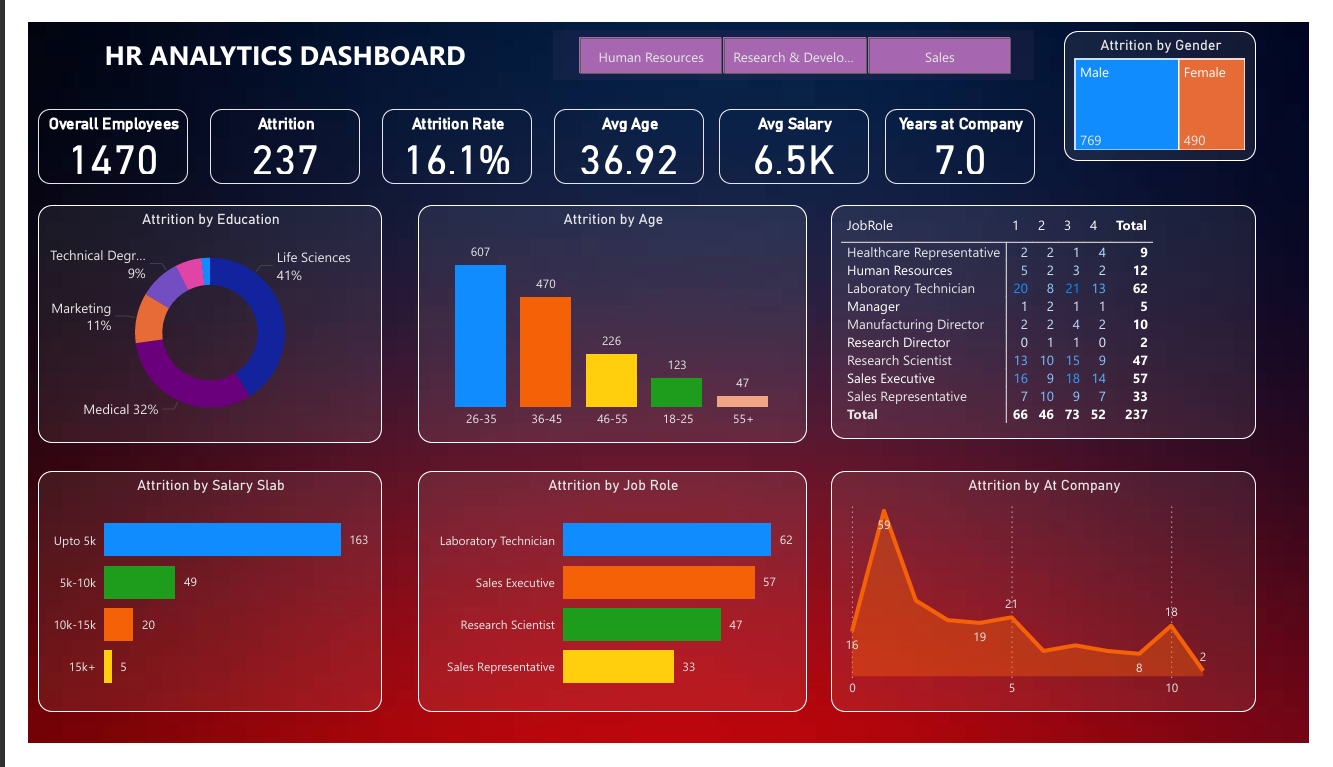

The dashboard page shown, as its layout file describes it:
{"tool":"powerbi","page":{"name":"Page 1","canvas":[1280,720],"ordinal":0},"visuals":[{"type":"card","title":"Overall Employees","fields":{"Values":["Count(HR_Analytics.EmpID)"]},"box":[9.1,86.4,150,75],"z":0},{"type":"card","title":"Attrition","fields":{"Values":["Sum(HR_Analytics.AttritionCount)"]},"box":[180.7,86.4,150,75],"z":1000},{"type":"card","title":"Attrition Rate","fields":{"Values":["HR_Analytics.AttritionRate"]},"box":[353.4,86.4,150,75],"z":2000},{"type":"card","title":"Avg Age","fields":{"Values":["Avg(HR_Analytics.Age)"]},"box":[525,86.4,150,75],"z":3000},{"type":"card","title":"Avg Salary","fields":{"Values":["Avg(HR_Analytics.MonthlyIncome)"]},"box":[689.8,86.4,150,75],"z":4000},{"type":"card","title":"Years at Company","fields":{"Values":["Avg(HR_Analytics.YearsAtCompany)"]},"box":[855.7,86.4,150,75],"z":5000},{"type":"donutChart","title":"Attrition by Education","fields":{"Category":["HR_Analytics.EducationField"],"Y":["CountNonNull(HR_Analytics.Attrition)"]},"box":[9.1,181.8,344.3,238.6],"z":6000},{"type":"columnChart","title":"Attrition by Age","fields":{"Category":["HR_Analytics.AgeGroup"],"Y":["CountNonNull(HR_Analytics.Attrition)"]},"box":[388.6,181.8,389.8,238.6],"z":7000},{"type":"pivotTable","fields":{"Rows":["HR_Analytics.JobRole"],"Columns":["HR_Analytics.JobSatisfaction"],"Values":["Sum(HR_Analytics.AttritionCount)"]},"box":[802.3,181.8,425,234.1],"z":8000},{"type":"barChart","title":"Attrition by Salary Slab","fields":{"Category":["HR_Analytics.SalarySlab"],"Y":["Sum(HR_Analytics.AttritionCount)"]},"box":[9.1,447.7,344.3,240.9],"z":9000},{"type":"barChart","title":"Attrition by Job Role","fields":{"Y":["Sum(HR_Analytics.AttritionCount)"],"Category":["HR_Analytics.JobRole"]},"box":[388.6,447.7,389.8,240.9],"z":10000},{"type":"areaChart","title":"Attrition by At Company","fields":{"Category":["HR_Analytics.YearsAtCompany"],"Y":["Sum(HR_Analytics.AttritionCount)"]},"box":[802.3,447.7,425,240.9],"z":11000},{"type":"treemap","title":"Attrition by Gender","fields":{"Group":["HR_Analytics.Gender"],"Values":["CountNonNull(HR_Analytics.Attrition)"]},"box":[1035.2,8,192,129.5],"z":12000},{"type":"slicer","fields":{"Values":["HR_Analytics.Department"]},"box":[525,8,480.7,50],"z":13000},{"type":"textbox","box":[9.1,8,494.3,50],"z":14000}]}

Visuals, with their boxes in screenshot pixels (x1, y1, x2, y2), scaled from the page's 1280x720 canvas onto the 1333x767 screenshot:
"Overall Employees" card: x1=9, y1=92, x2=166, y2=172
"Attrition" card: x1=188, y1=92, x2=344, y2=172
"Attrition Rate" card: x1=368, y1=92, x2=524, y2=172
"Avg Age" card: x1=547, y1=92, x2=703, y2=172
"Avg Salary" card: x1=718, y1=92, x2=875, y2=172
"Years at Company" card: x1=891, y1=92, x2=1047, y2=172
"Attrition by Education" donutChart: x1=9, y1=194, x2=368, y2=448
"Attrition by Age" columnChart: x1=405, y1=194, x2=811, y2=448
pivotTable - HR_Analytics.JobRole x HR_Analytics.JobSatisfaction: x1=836, y1=194, x2=1278, y2=443
"Attrition by Salary Slab" barChart: x1=9, y1=477, x2=368, y2=734
"Attrition by Job Role" barChart: x1=405, y1=477, x2=811, y2=734
"Attrition by At Company" areaChart: x1=836, y1=477, x2=1278, y2=734
"Attrition by Gender" treemap: x1=1078, y1=9, x2=1278, y2=146
slicer - HR_Analytics.Department: x1=547, y1=9, x2=1047, y2=62
textbox: x1=9, y1=9, x2=524, y2=62
